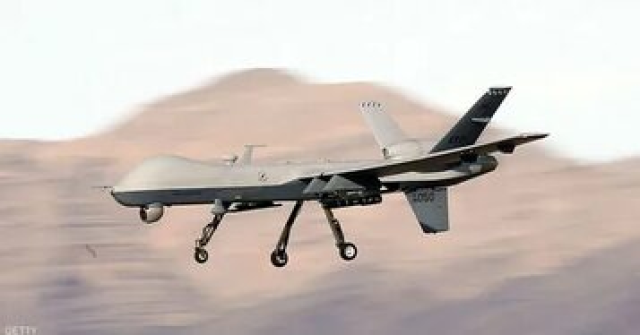military drone: (94, 86, 550, 268)
